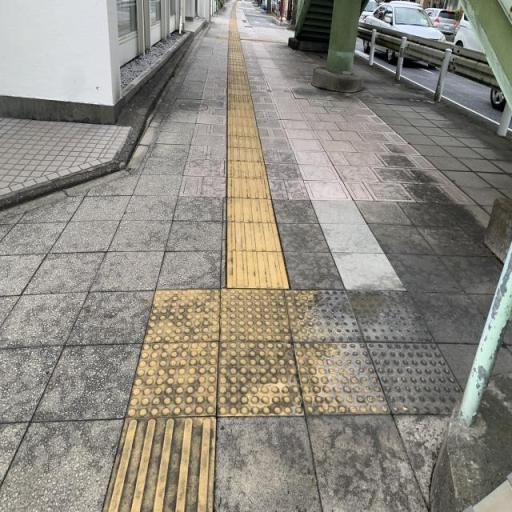dot: (129, 342, 218, 417), (218, 342, 302, 415), (285, 290, 362, 342), (145, 290, 219, 342), (221, 289, 290, 341)
line: (97, 414, 215, 511), (226, 249, 289, 288), (226, 222, 284, 251), (224, 197, 276, 223), (226, 178, 272, 200), (227, 160, 268, 178), (227, 147, 264, 162)
